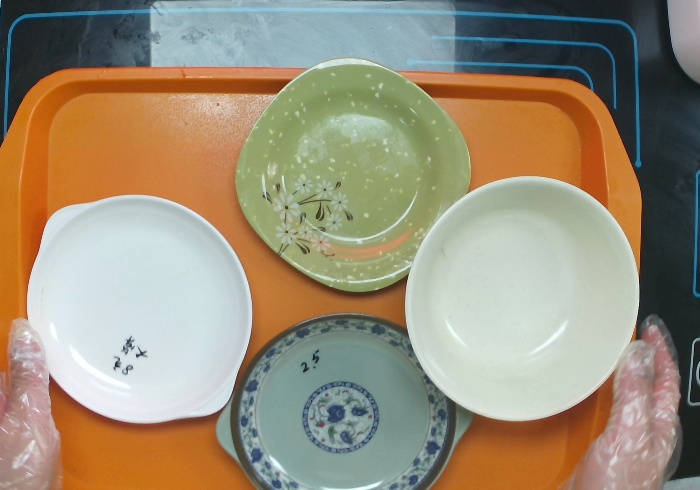NLDX-Bai_Se_Shuang_Er_Die: (19, 190, 258, 430)
NLDX-Bai_Se_Yuan_Wan: (397, 172, 640, 427)
NLDX-Lv_Hua_Fang_Die: (230, 53, 476, 297)
NLDX-Qing_Hua_Shuang_Er_Die: (211, 308, 479, 488)
